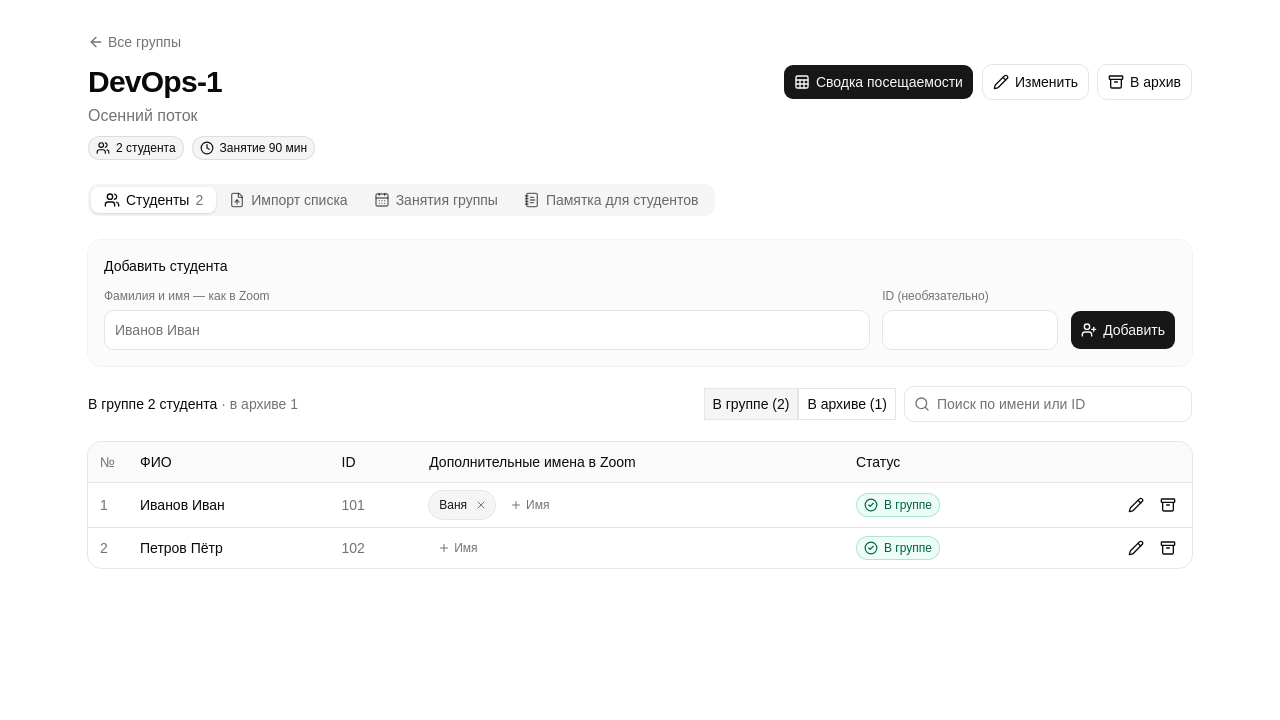
Scenario: GroupPage › removes an extra Zoom name after a confirmation
Click the button named "Удалить имя «Ваня»" at (481, 505), box [469,493,493,517]
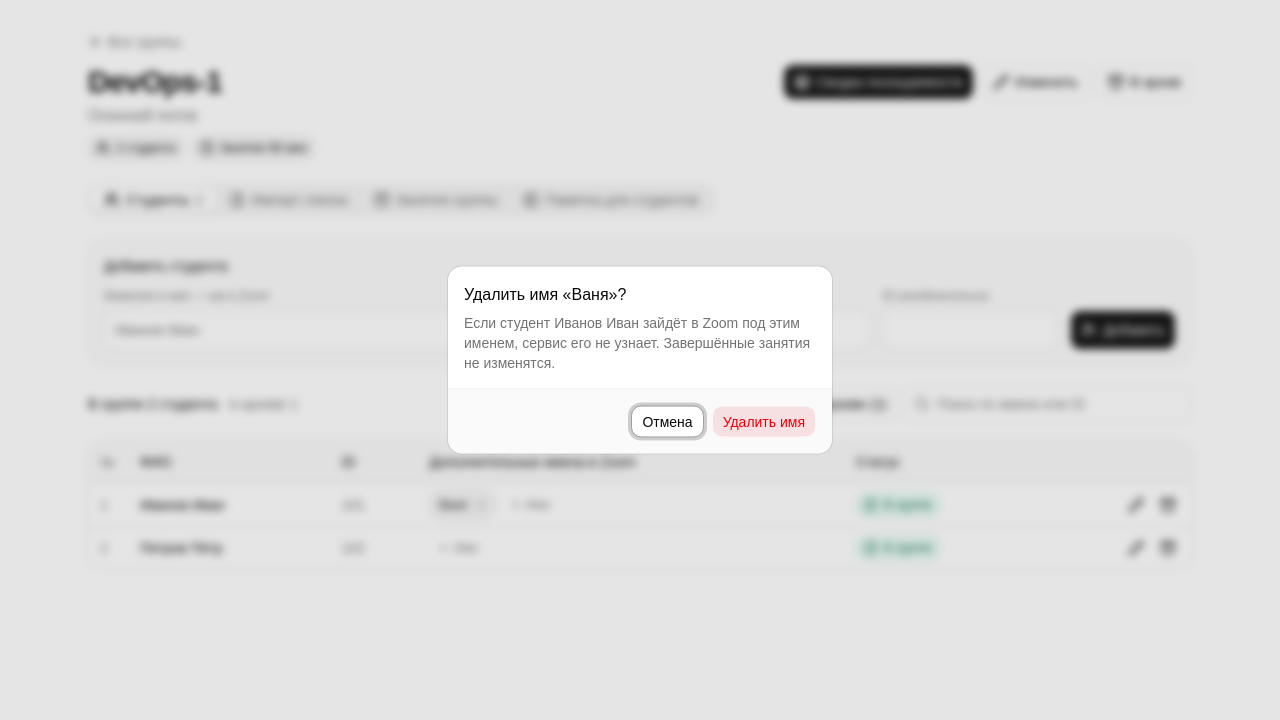
Check: the heading "Удалить имя «Ваня»?" is shown, box [464,282,626,306]
Click the button "Удалить имя" at (764, 422), box [712,406,816,438]
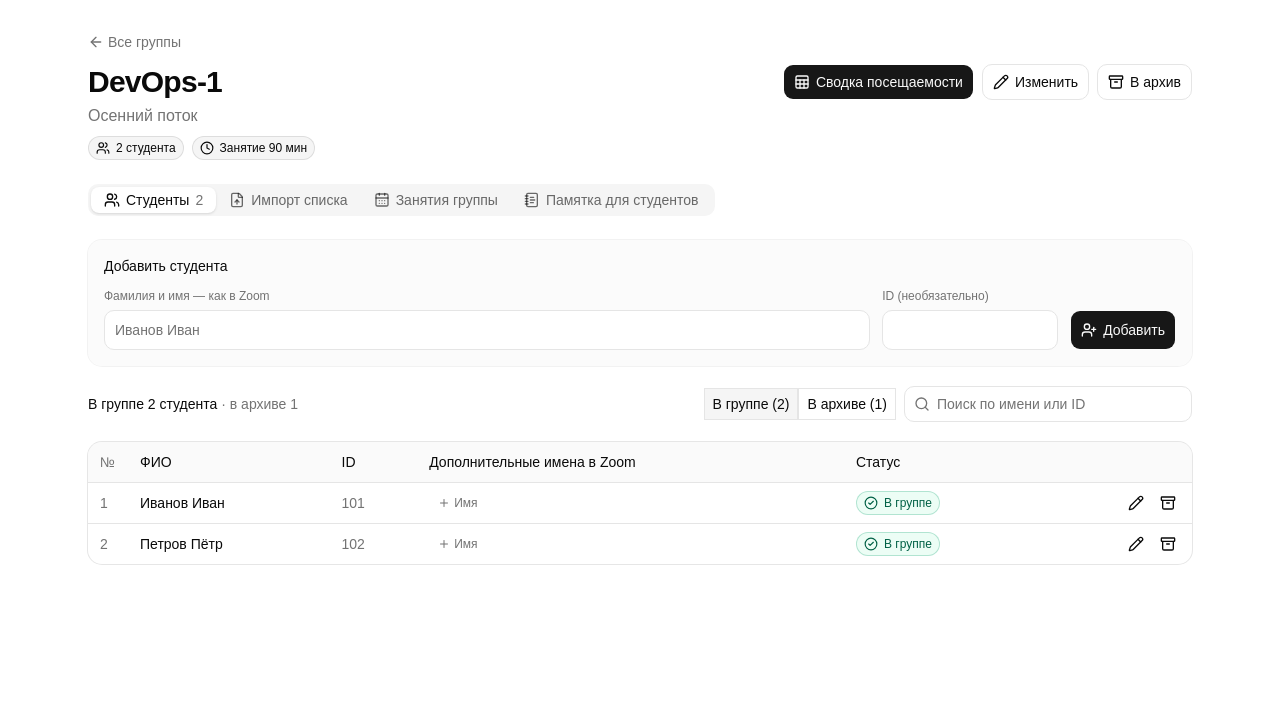
Check: the list item "Ваня" is gone
